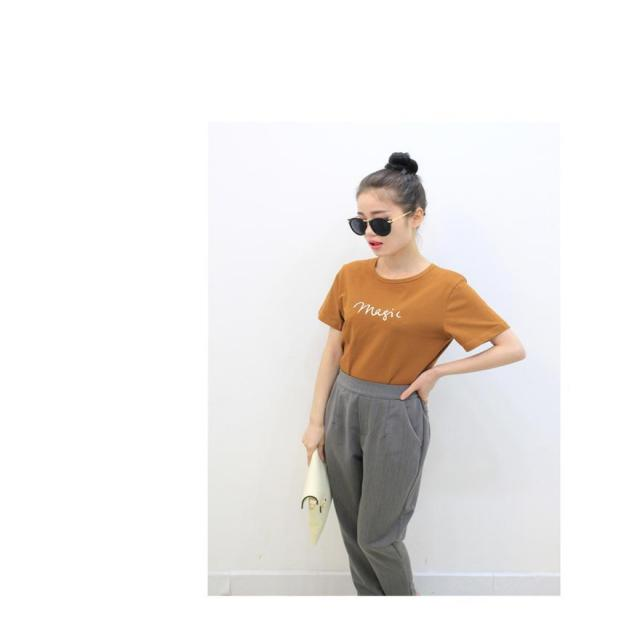short sleeve top: (318, 259, 511, 384)
trousers: (324, 368, 423, 597)
